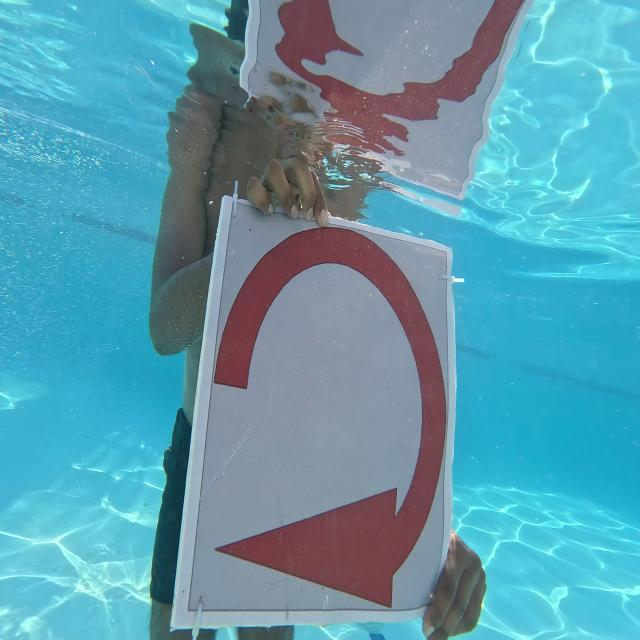red_side: (182, 226, 451, 614)
